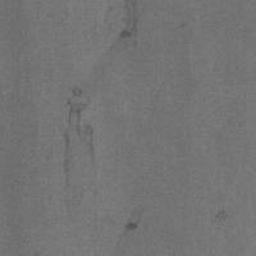Water spot: (101, 192, 177, 256), (61, 86, 99, 207), (91, 0, 146, 77), (214, 210, 229, 224)
